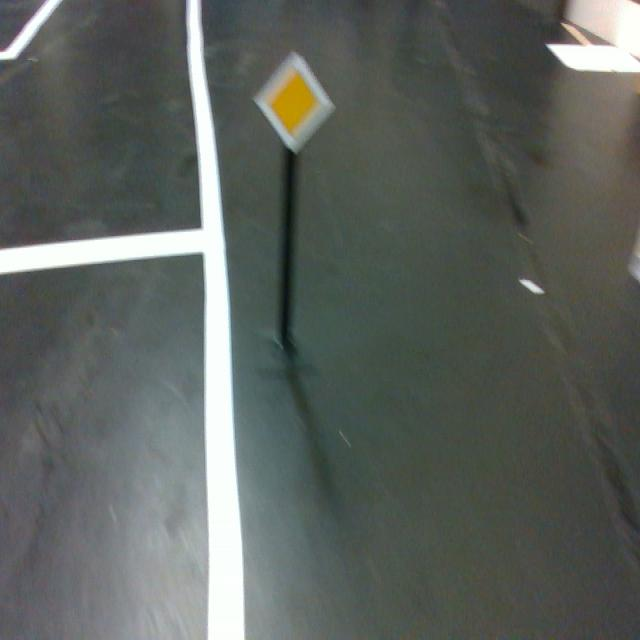priority-sign: (250, 48, 337, 156)
